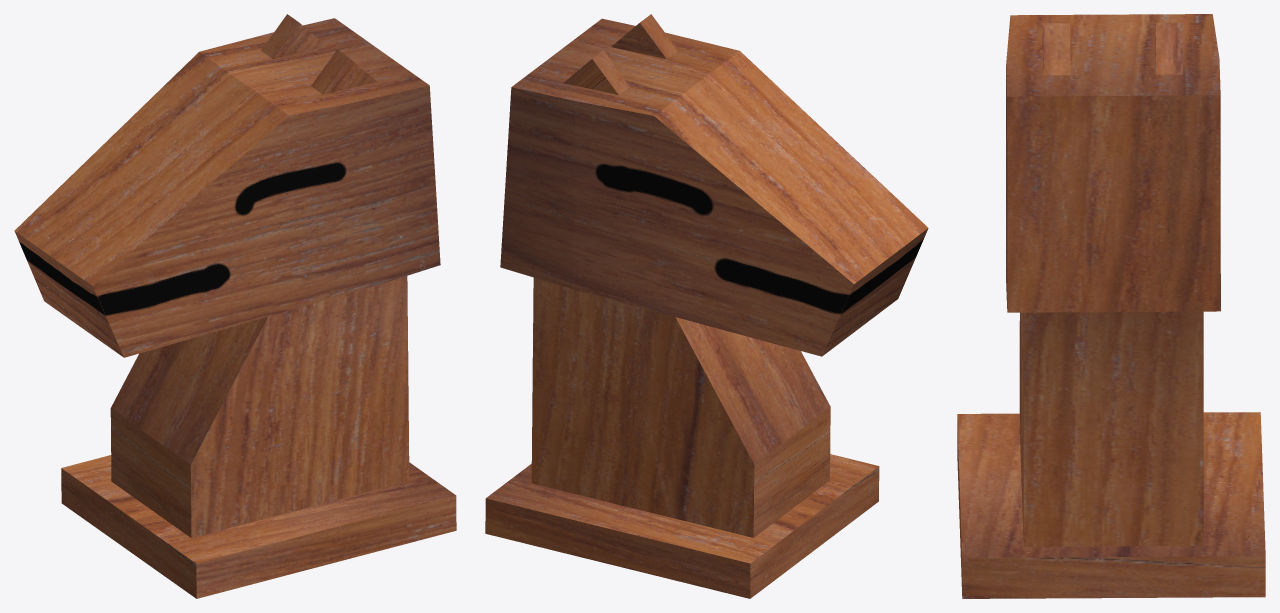
File: skoczek bialy.glb
3 views of the same model, side by side, from view 1: azimuth 30°, elevation 25°; view 2: azimuth 150°, elevation 25°; view 3: azimuth 270°, elevation 25° (orthographic). The views are drawn at different scales.
Parts seen in each view (by area): view 1: skoczek bialy; view 2: skoczek bialy; view 3: skoczek bialy.
Boxes of the visible parts, box(x1,y1,x2,y2) form: skoczek bialy: box(14, 14, 456, 598); skoczek bialy: box(485, 14, 928, 598); skoczek bialy: box(957, 14, 1265, 598).
Size of the model in its own units: 20.37 by 26.42 by 13.72.
1 material, 1 textured.
